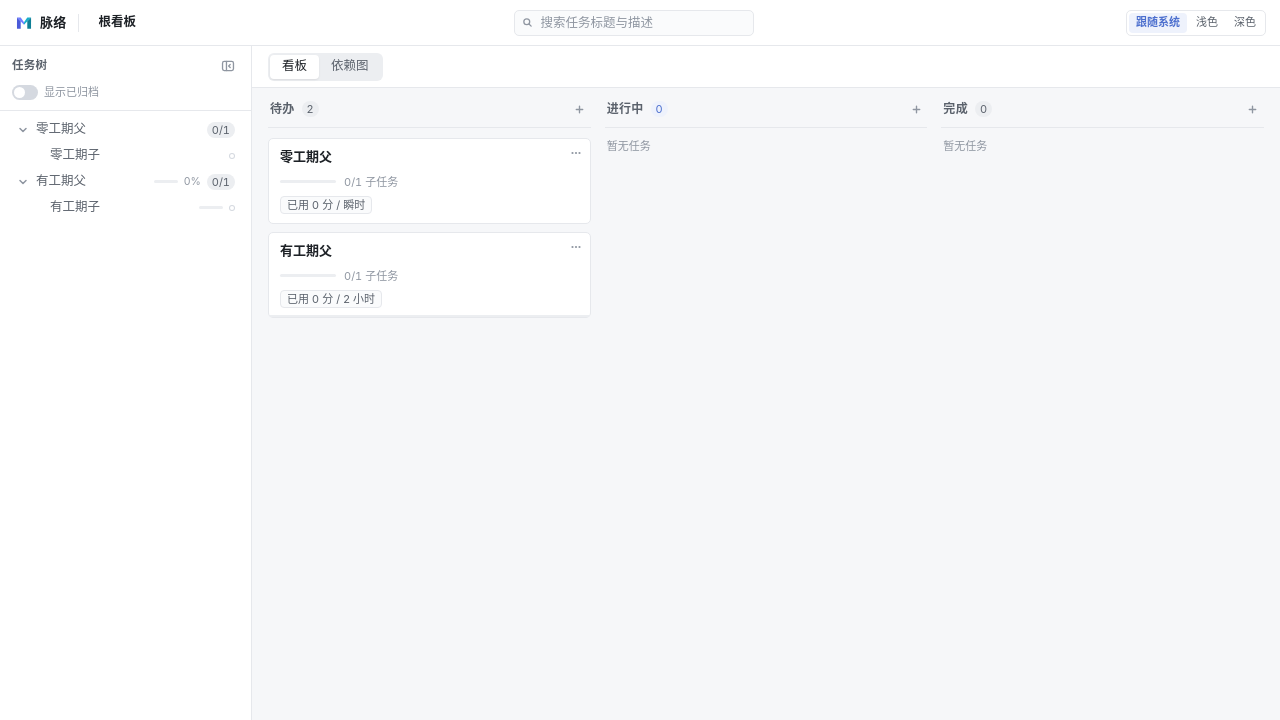
Test: App 增删改 › 父任务工期汇总：叶子是 0 显示「瞬时」，是正数显示汇总值，两种都用正常字色
Click the button named "「零工期父」的更多操作" at {"x": 576, "y": 153}, box [566,143,586,163]
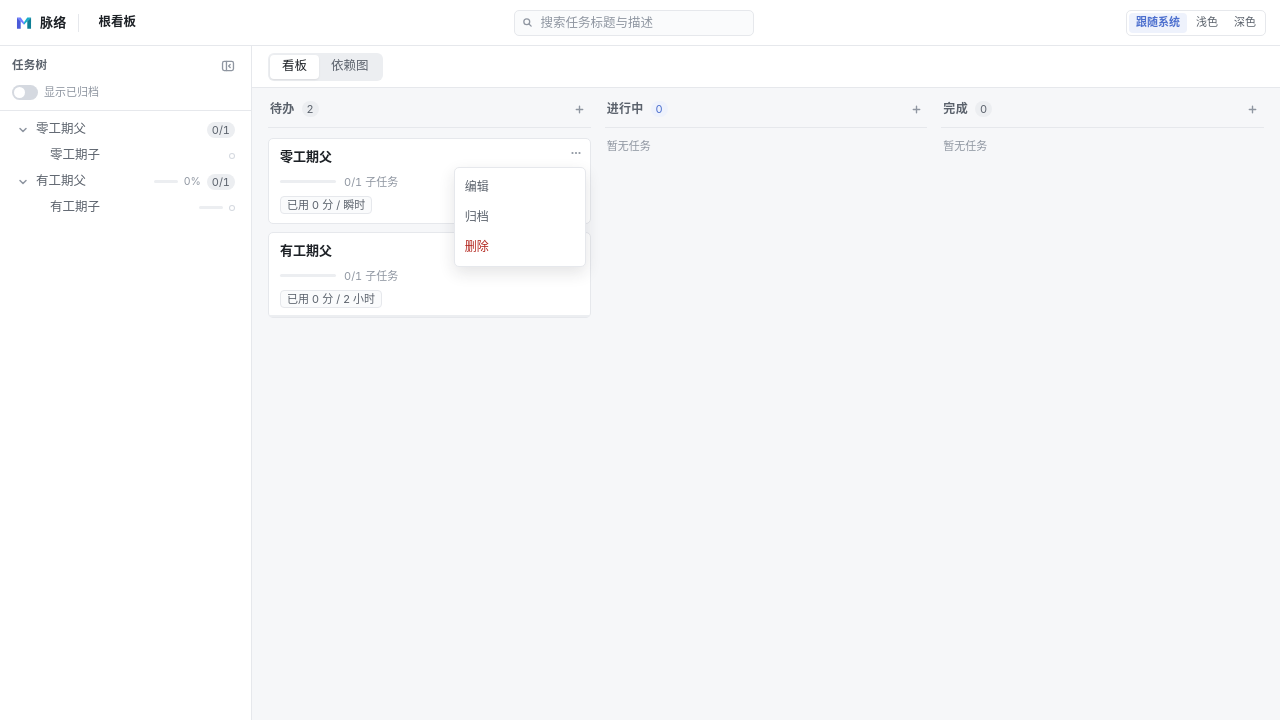
Click the button "编辑" at {"x": 520, "y": 187}, box [455,172,585,202]
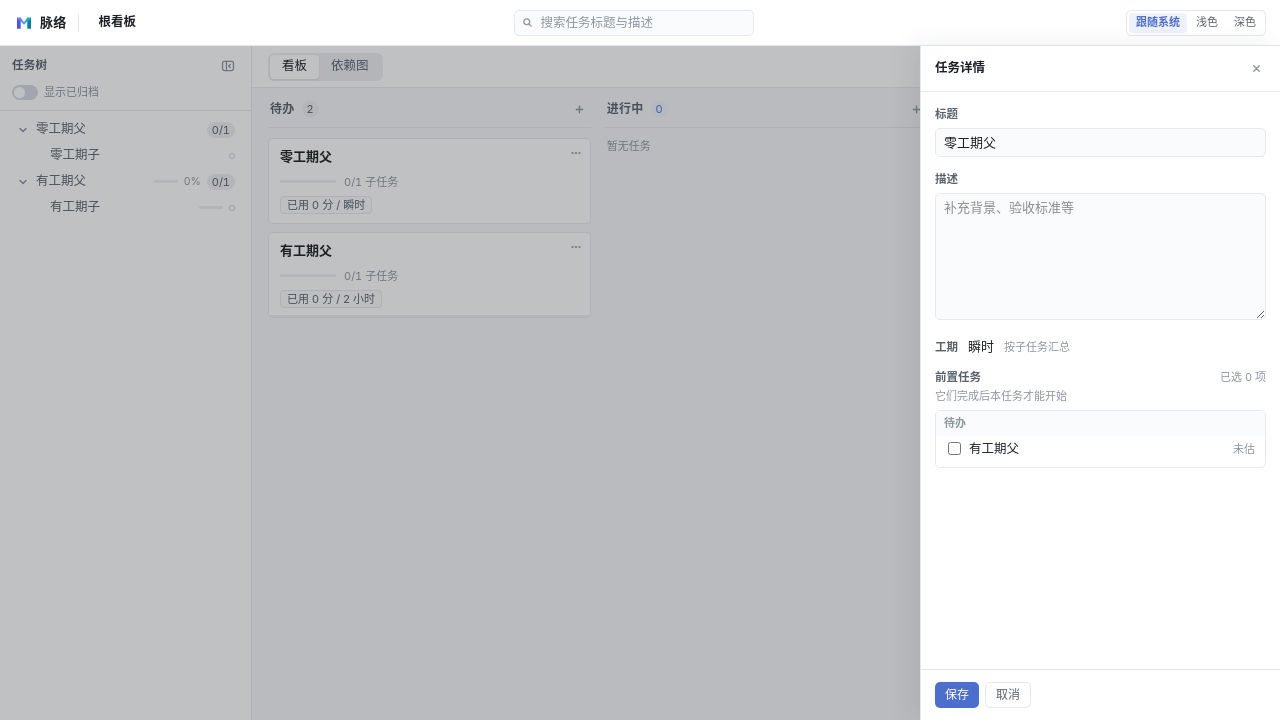
Now the dialog is shown, box [920,46,1279,719]
Now the element showing "工期 瞬时 按子任务汇总" is shown, box [935,338,1070,354]
Click the button "取消" at {"x": 1008, "y": 695}, box [985,682,1031,708]
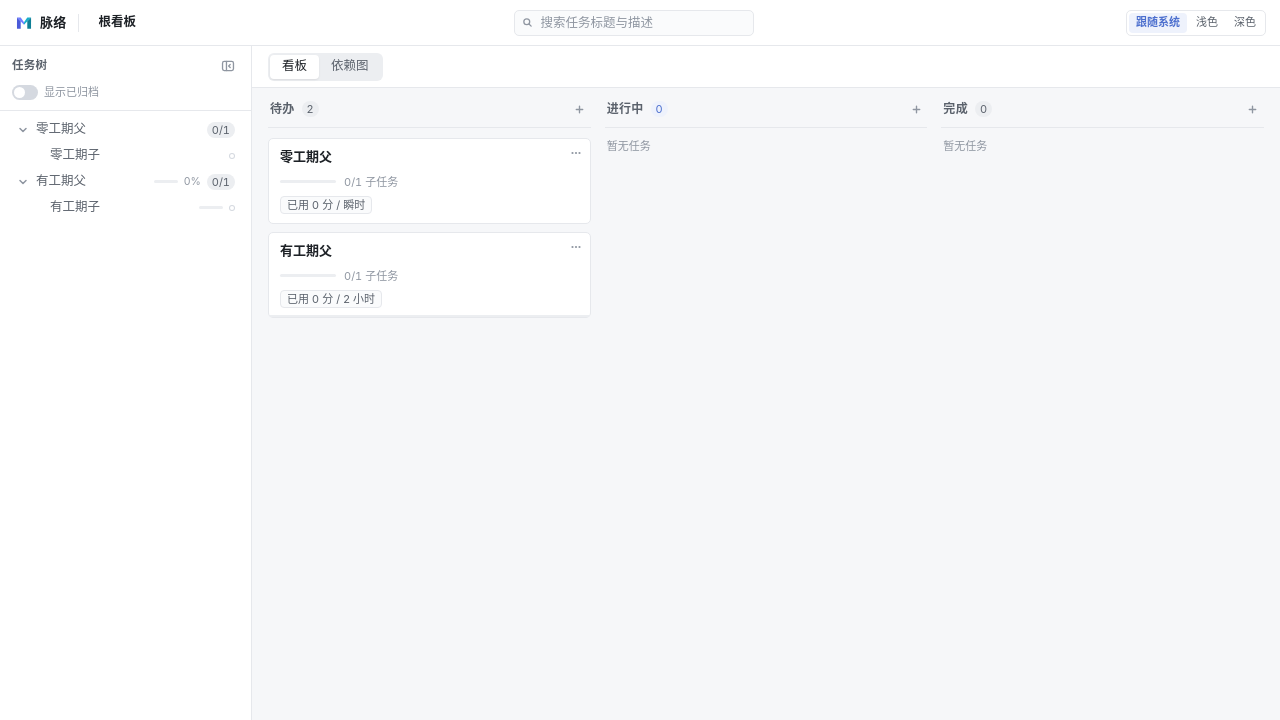
Now the dialog is gone
Click the button named "「有工期父」的更多操作" at {"x": 576, "y": 247}, box [566,237,586,257]
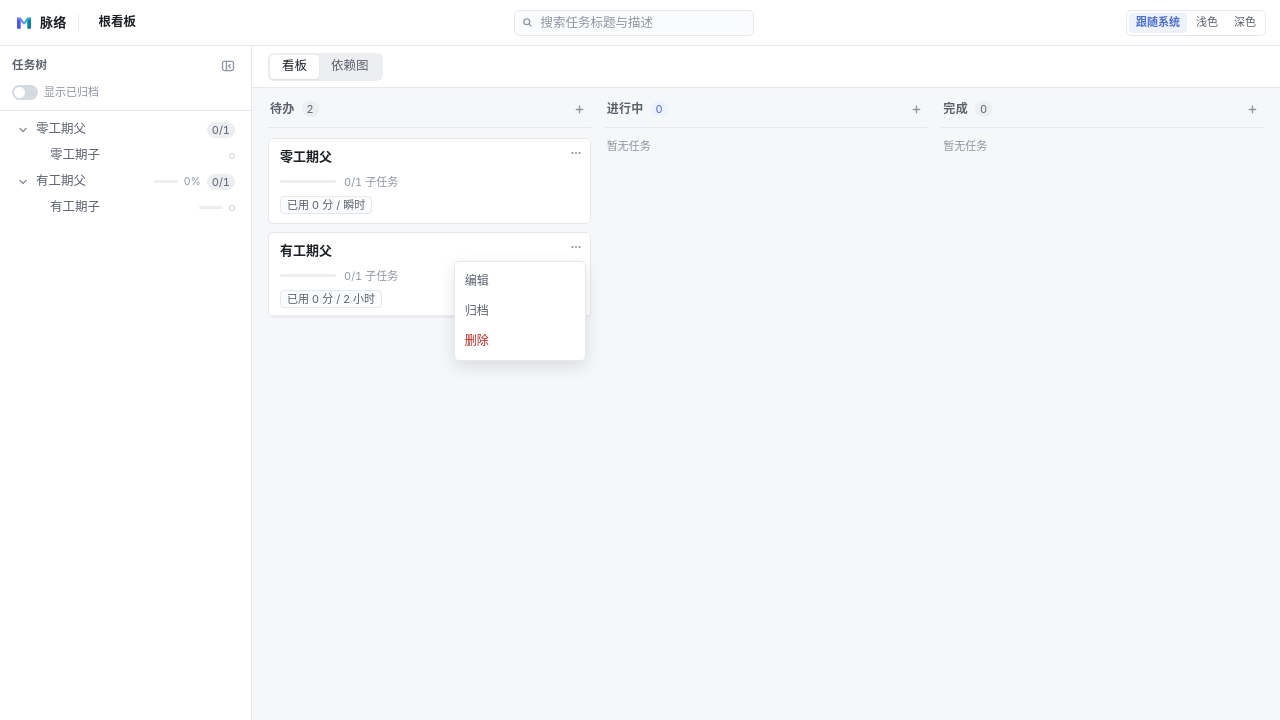
Click the button "编辑" at {"x": 520, "y": 281}, box [455,266,585,296]
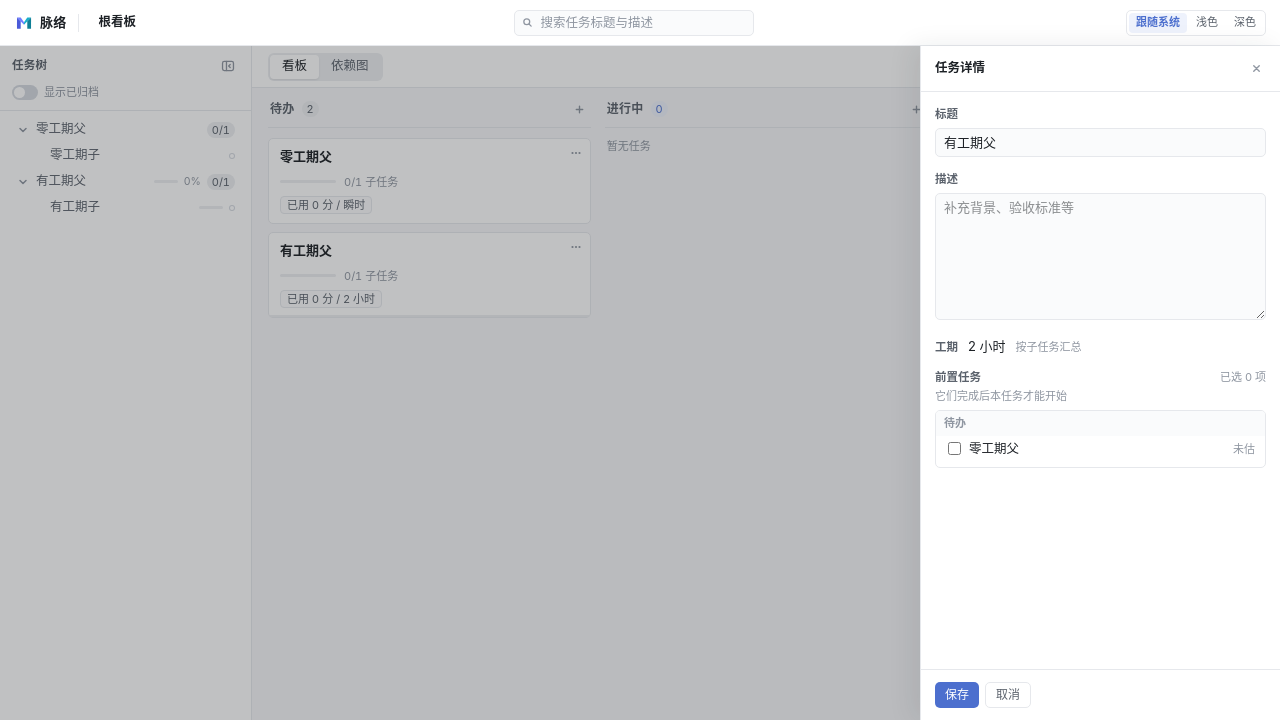
Now the dialog is shown, box [920,46,1279,719]
Now the element showing "工期 2 小时 按子任务汇总" is shown, box [935,338,1082,354]
